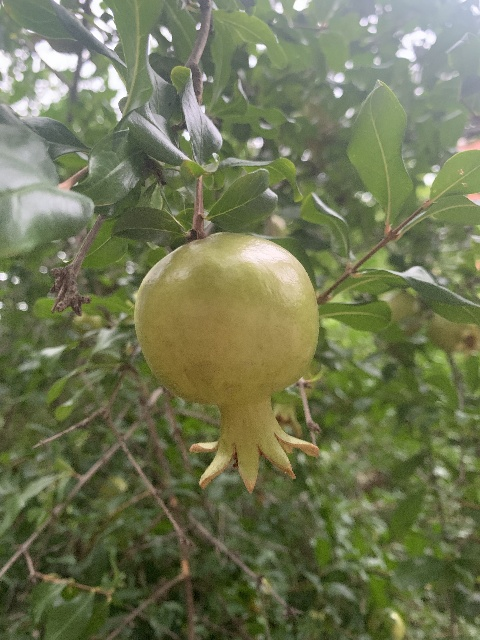mid-growth: (134, 232, 322, 496)
